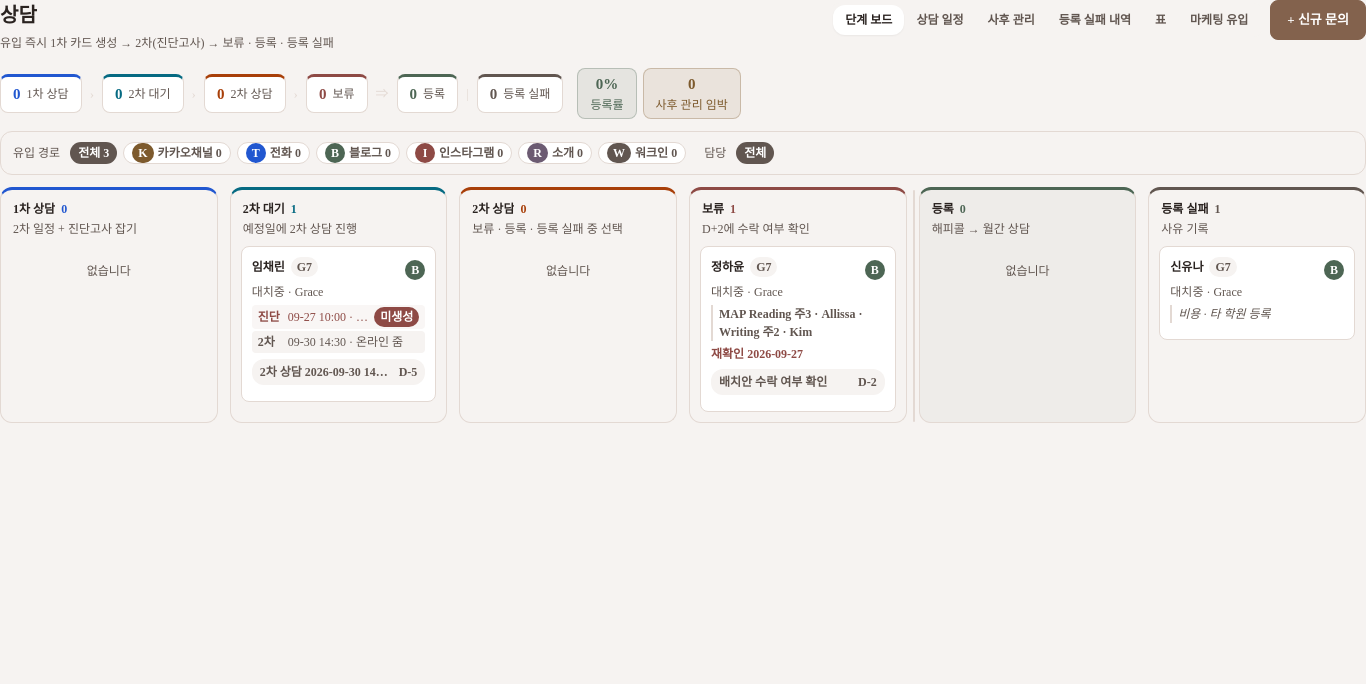
Test: 상세 서랍 — 배치안 · 연장 +2일 · 일정 · 스케줄에 만들기 › 일정 한 줄을 적고, 시간표에 없는 줄 수만큼 「스케줄에 N건 만들기」 — 만든 줄은 여기서 고치지 않는다
Expected: the text "정하윤" is shown, [711,258,744,276]
Click the button that starts with "임채린".
click(339, 324)  # box [252,256,425,390]
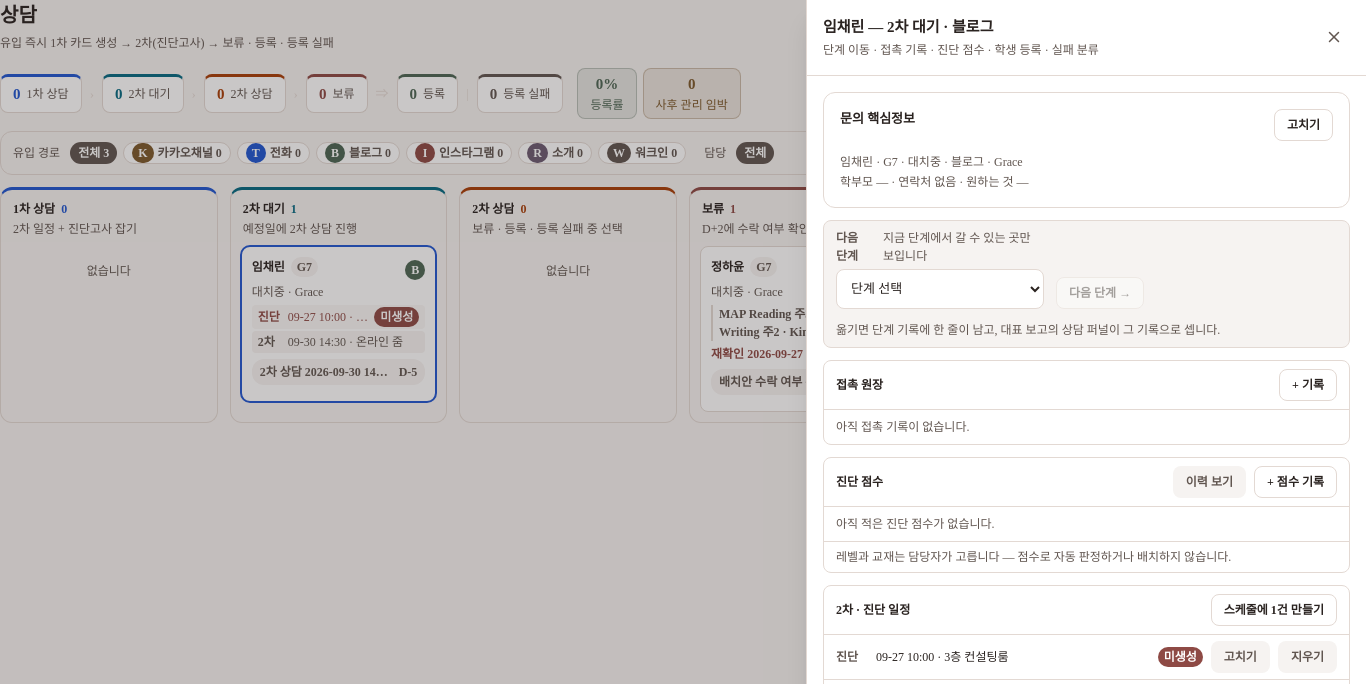
Click the button with aria-label "진단 일정 고치기".
click(1240, 656)  # box [1211,640,1270,672]
(page scrolled)
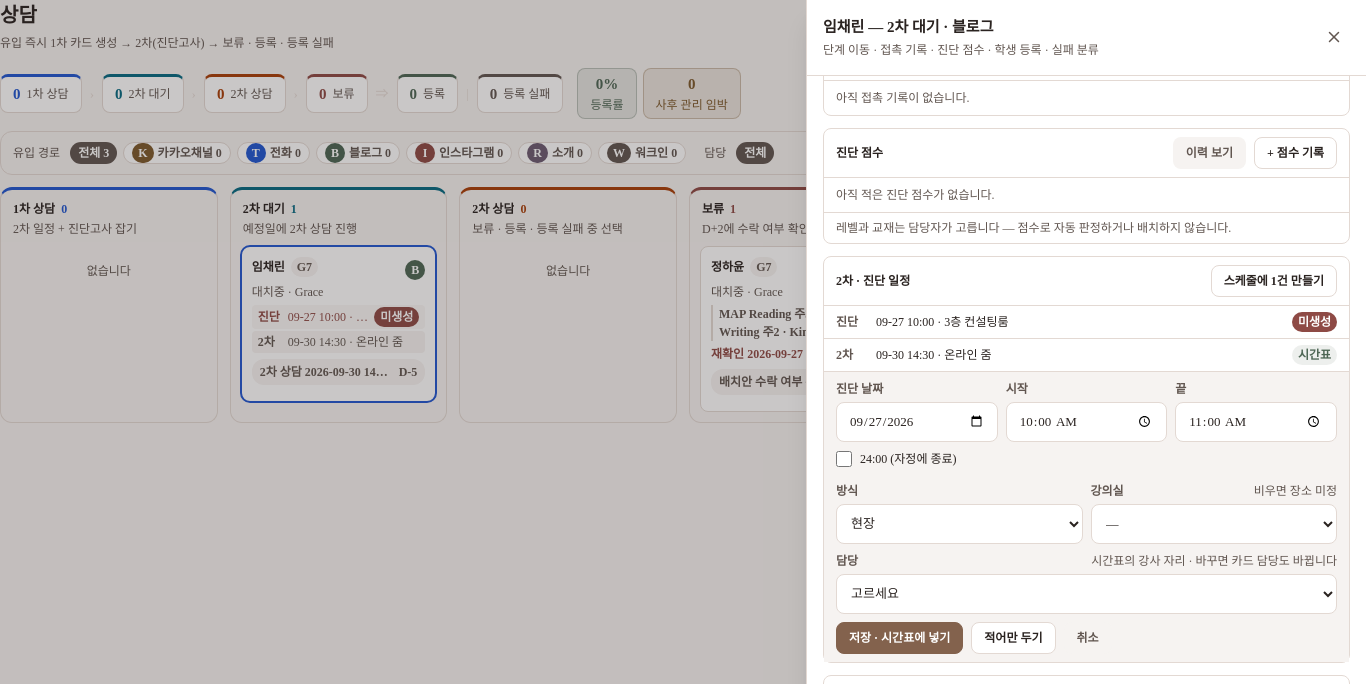
Replace the text in the time field labelled "시작" with "11:00" at (1087, 422), box [1006,402,1167,442]
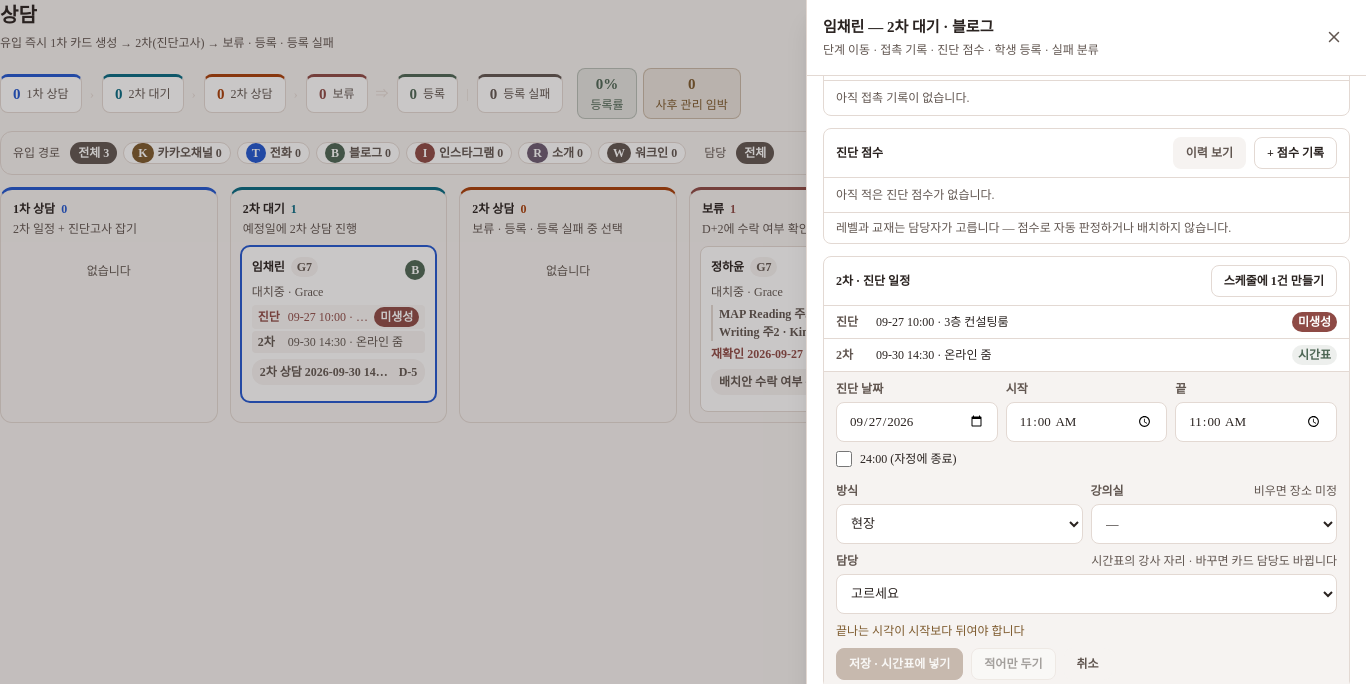
Replace the text in the time field labelled "끝" with "12:00" at (1256, 422), box [1175,402,1337,442]
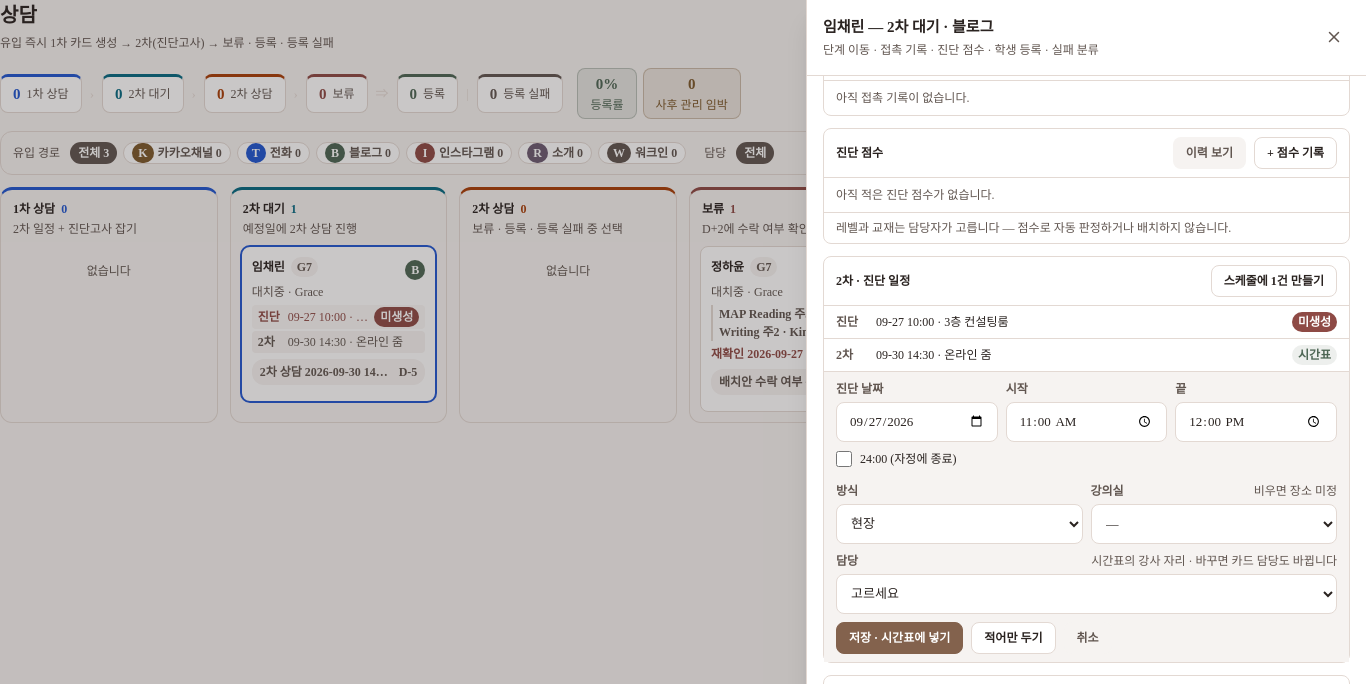
Click the button "적어만 두기".
click(1013, 638)  # box [971,622,1056,654]
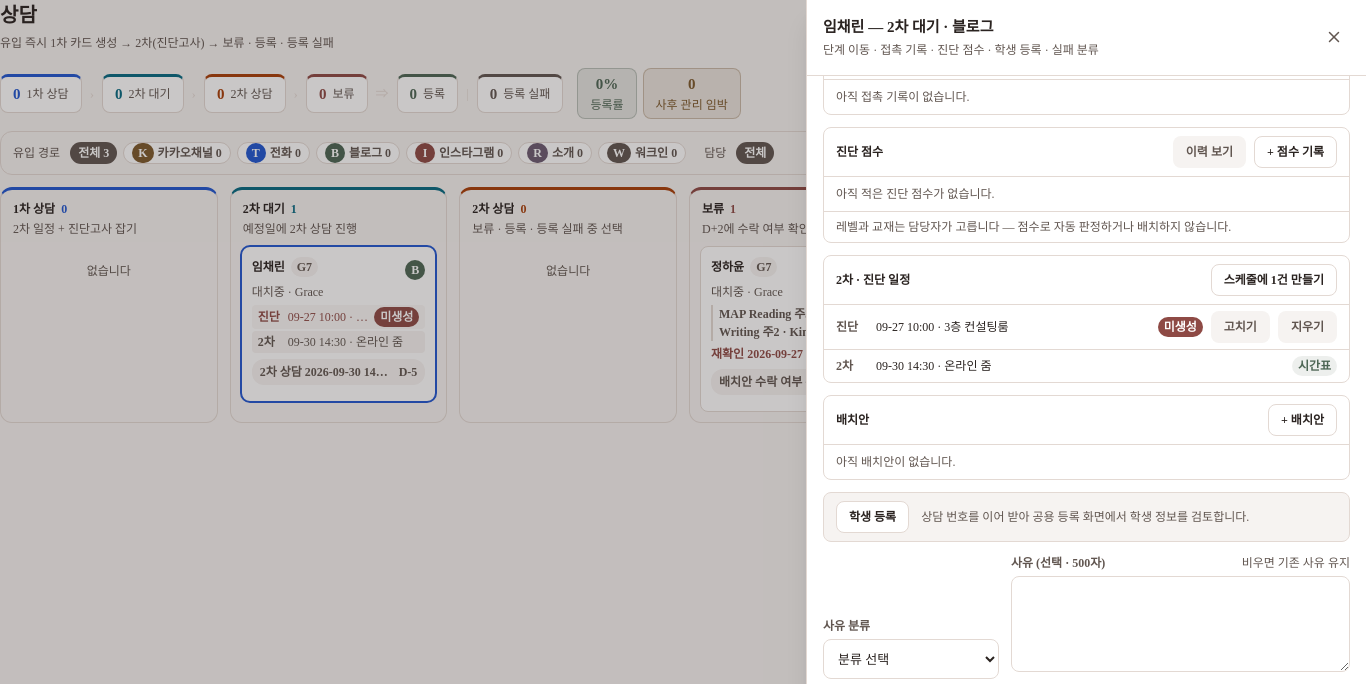
Click the button "스케줄에 1건 만들기".
click(1274, 280)  # box [1211,264,1337,296]
(page scrolled)
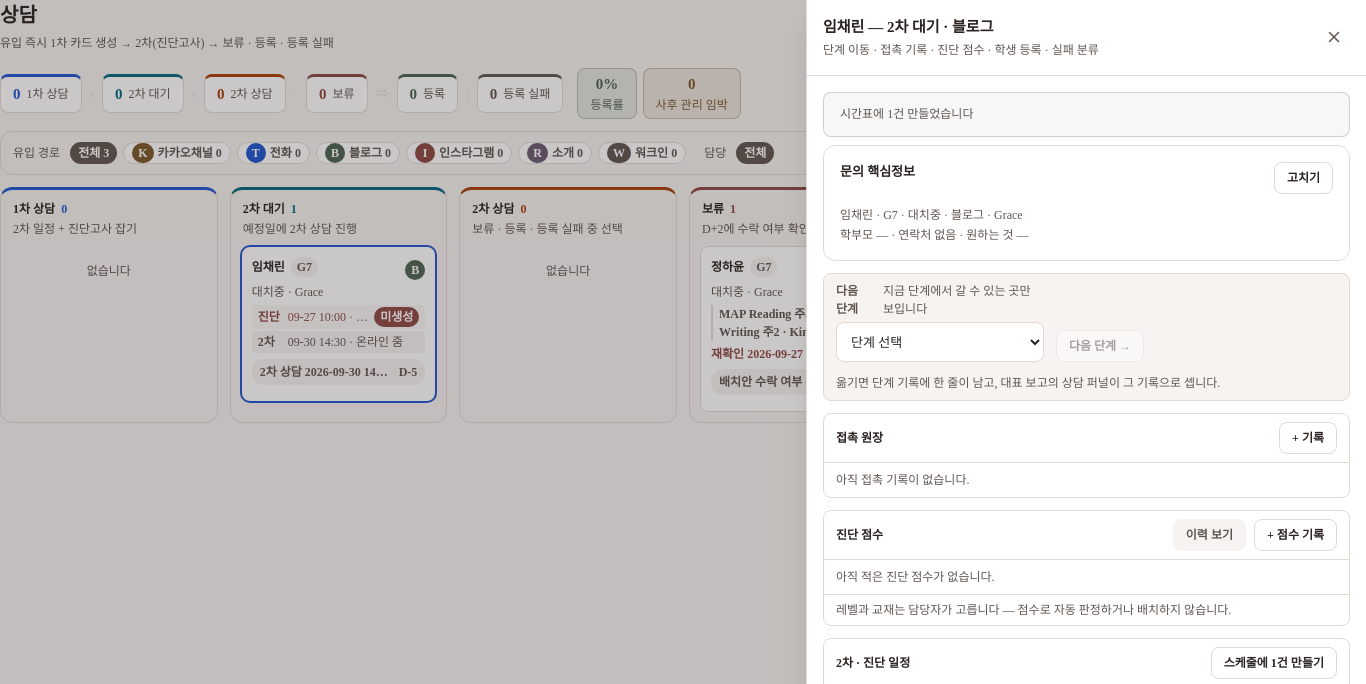
Expected: the text "시간표에 1건 만들었습니다" is shown, [823,92,1350,137]
